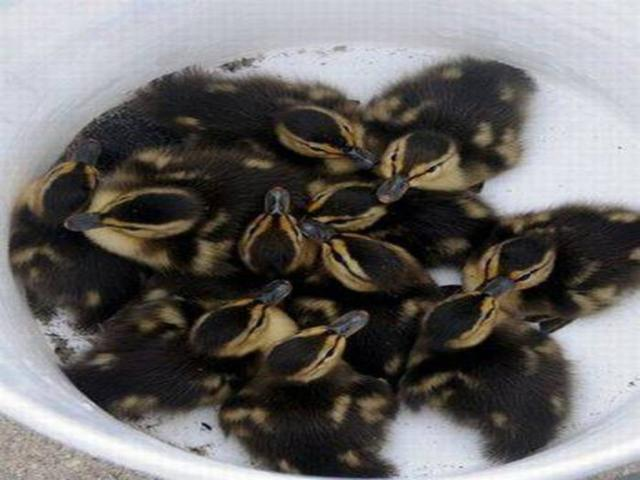Bird: (7, 62, 638, 479), (355, 50, 523, 194)
